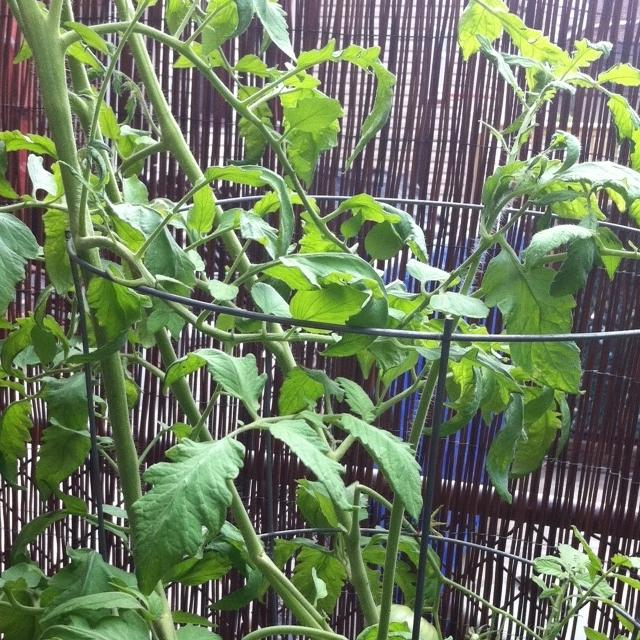Tomato leaf: (126, 423, 258, 578), (496, 252, 600, 408), (322, 405, 426, 525), (0, 210, 50, 371)
